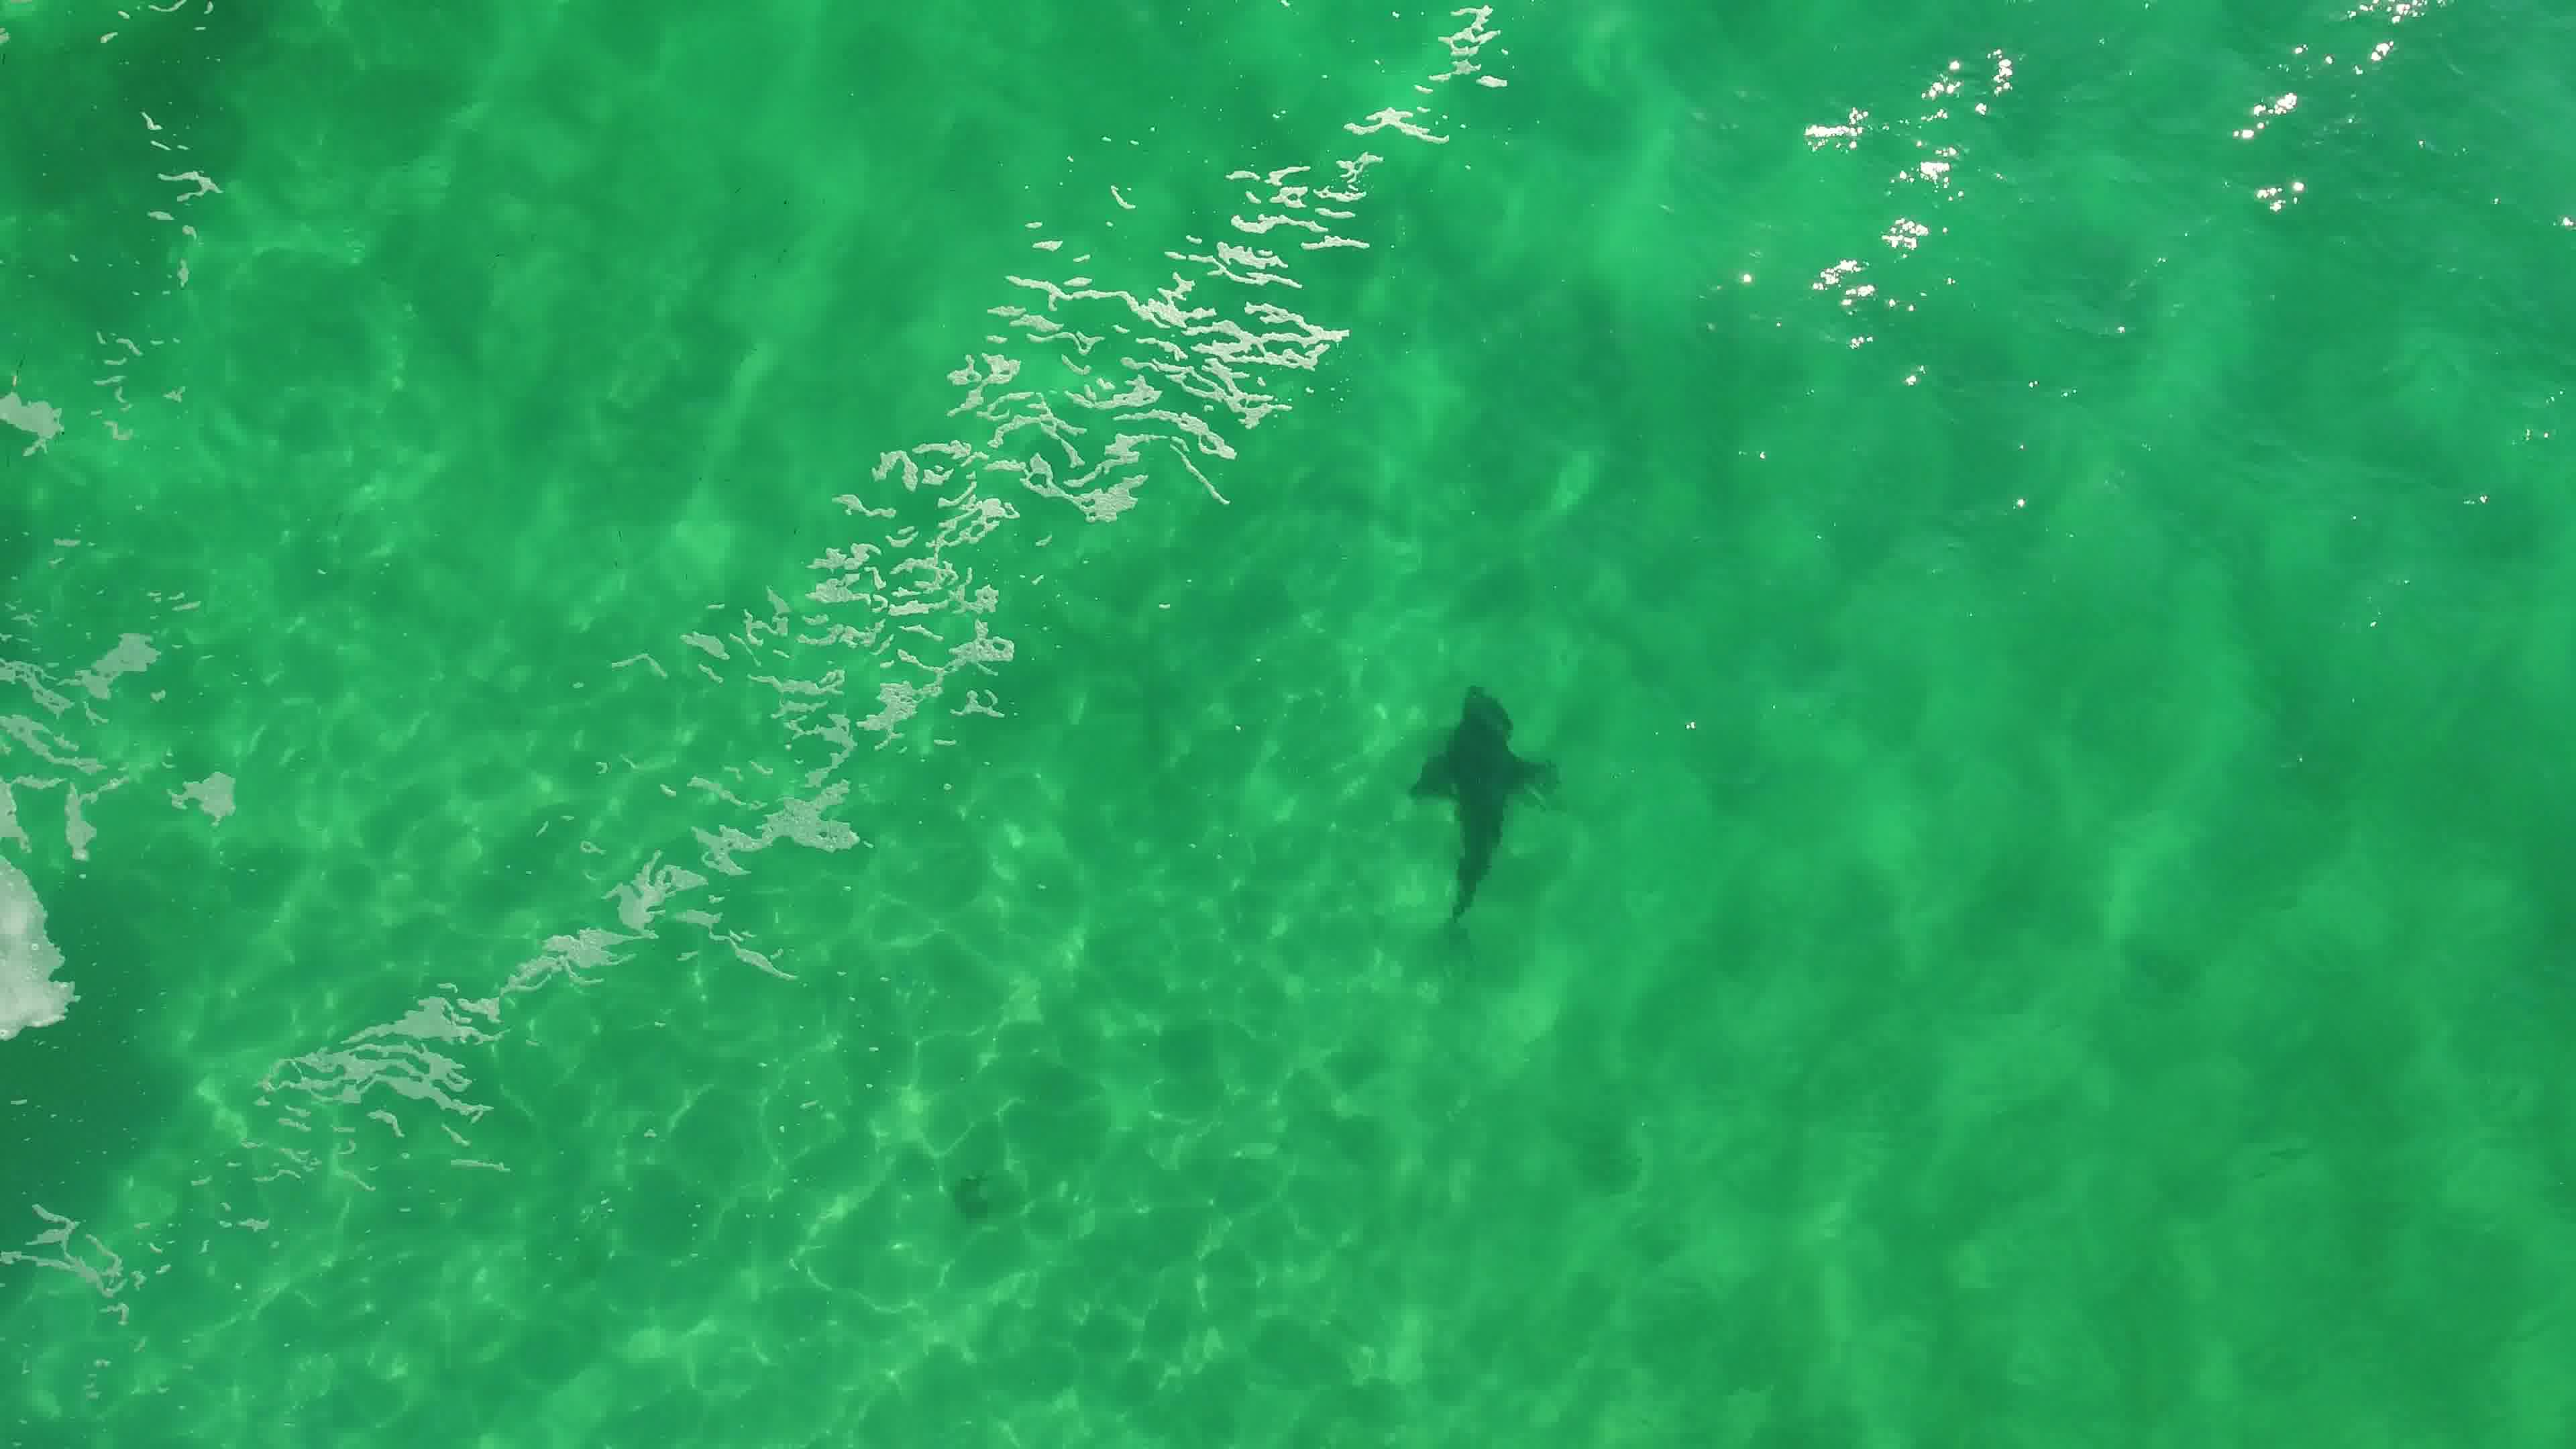shark: (1398, 676, 1568, 932)
